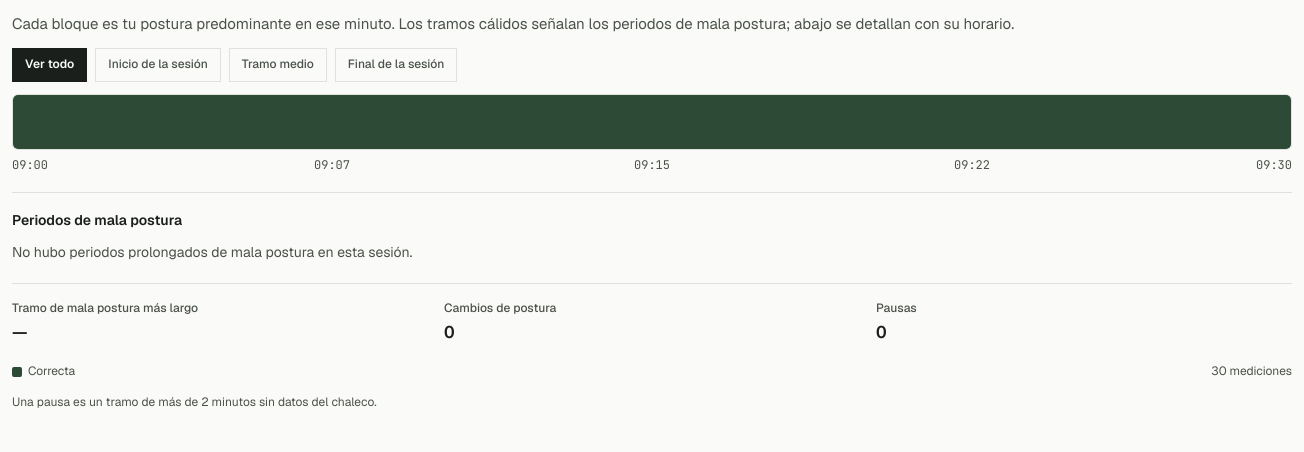
Test case: SessionTimelineChart — zoom (US010) › "Ver todo" restaura la vista completa tras hacer zoom
Click the button "Tramo medio".
click(278, 65)  # box [229,48,327,82]
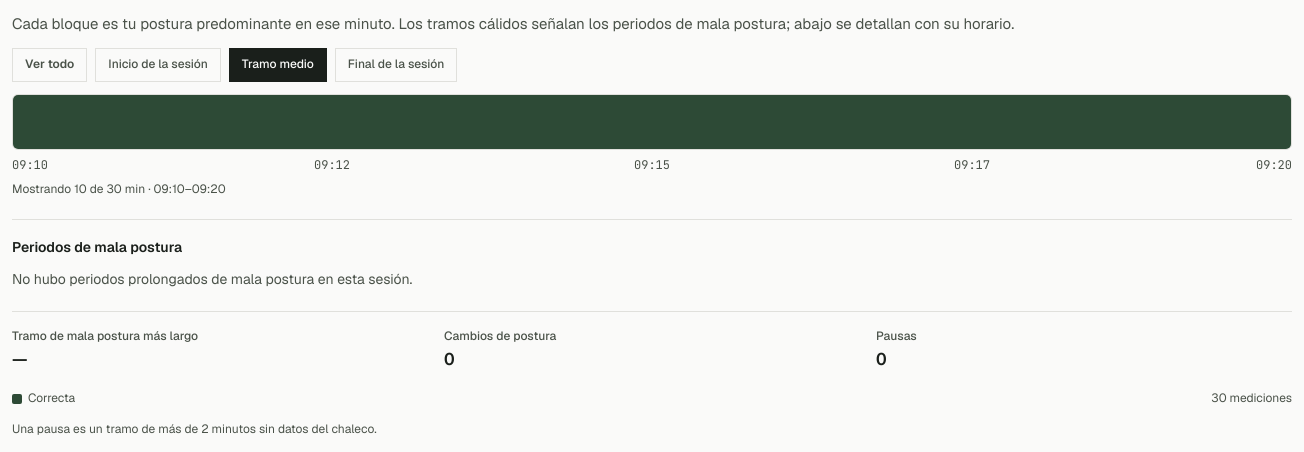
Now the text "Mostrando 10 de 30 min · 09:10–09:20" is shown, box [12,181,226,197]
Click the button "Ver todo".
click(50, 65)  # box [12,48,87,82]
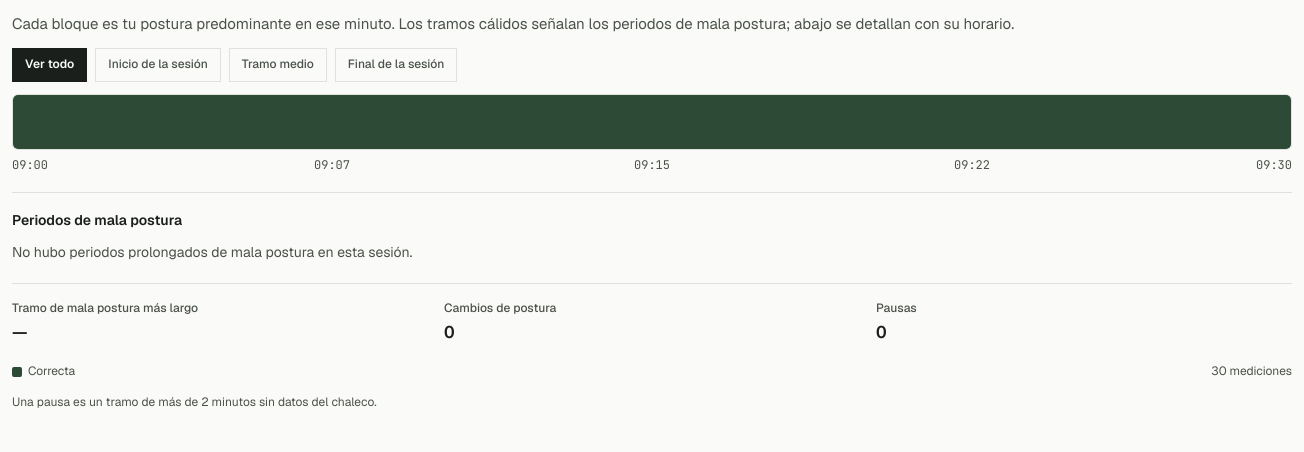
Now the text "Mostrando" is gone
